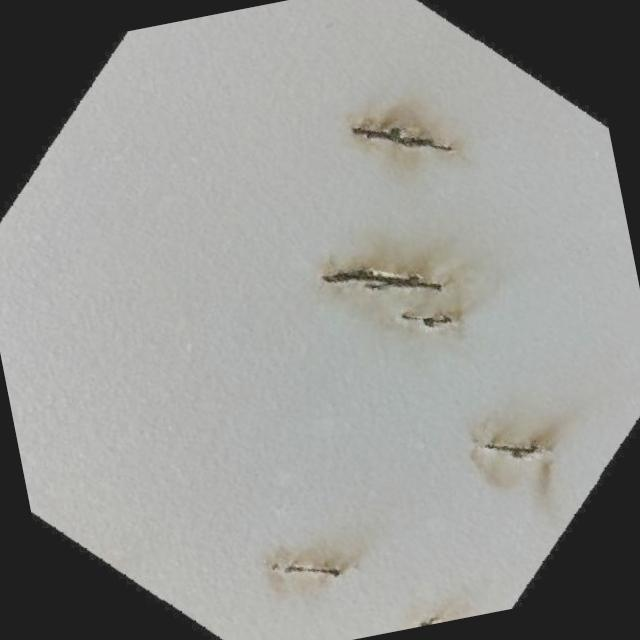crack: (322, 257, 446, 312), (357, 115, 456, 168), (276, 556, 344, 590), (482, 432, 546, 466), (404, 304, 456, 336)
